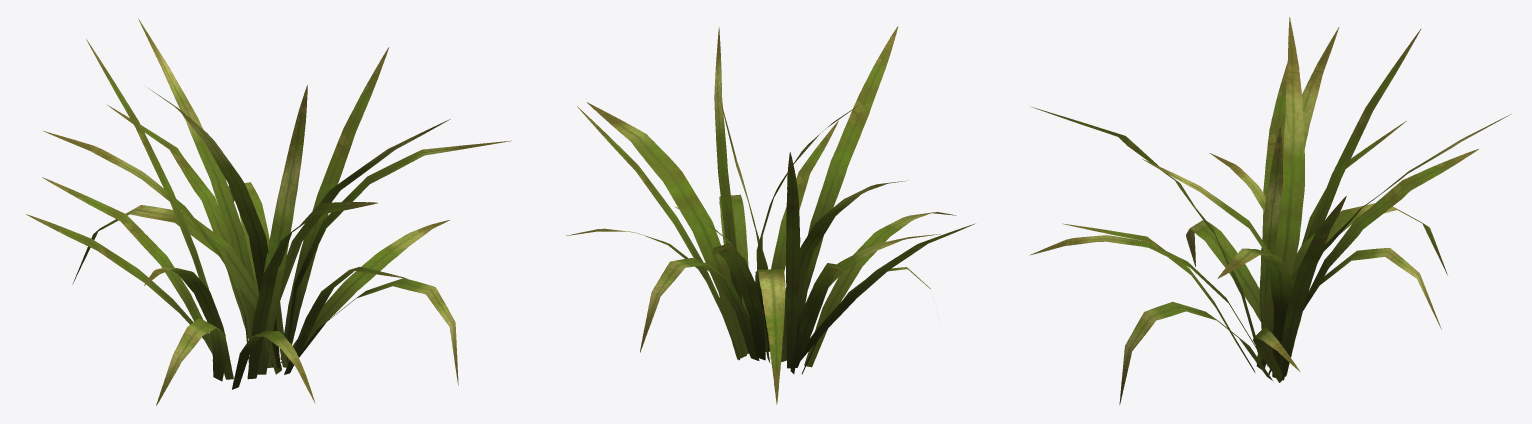
File: grass_Thin.FBX
3 renders of one model, left to right at view 1: azimuth 30°, elevation 25°; view 2: azimuth 150°, elevation 25°; view 3: azimuth 270°, elevation 25°, orthographic. The views are drawn at different scales.
Visible parts, largest first — view 1: grass_thin; view 2: grass_thin; view 3: grass_thin.
Part boxes in pixels (bbox=[...]): grass_thin: bbox=[26, 18, 511, 405]; grass_thin: bbox=[566, 26, 975, 404]; grass_thin: bbox=[1029, 17, 1510, 404].
Size of the model in its own units: 95.31 by 61.32 by 90.5.
